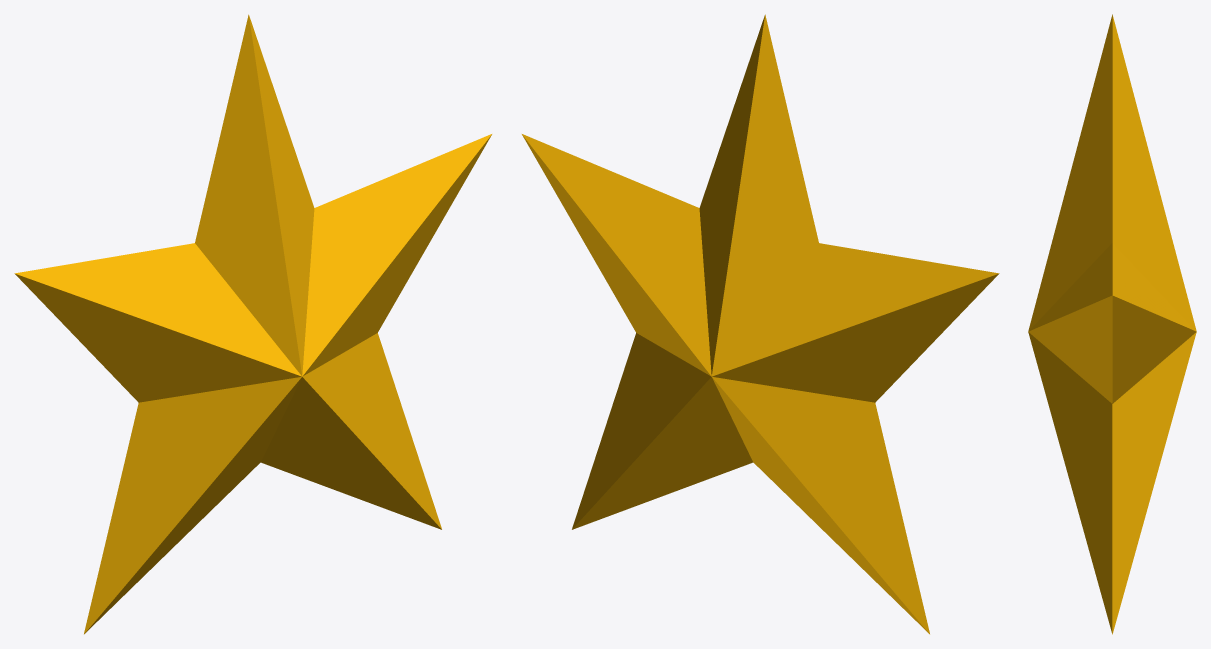
File: star.fbx
The picture shows the model from 3 angles, left to right: view 1: azimuth 30°, elevation 25°; view 2: azimuth 150°, elevation 25°; view 3: azimuth 270°, elevation 25°; orthographic projection. The views are drawn at different scales.
Parts seen in each view (by area): view 1: Cube; view 2: Cube; view 3: Cube.
Boxes of the visible parts, box(x1,y1,x2,y2) form: Cube: box(14, 14, 491, 634); Cube: box(522, 14, 999, 634); Cube: box(1028, 14, 1196, 634).
Bounding box in the file's own units: 186 × 215 × 60.
